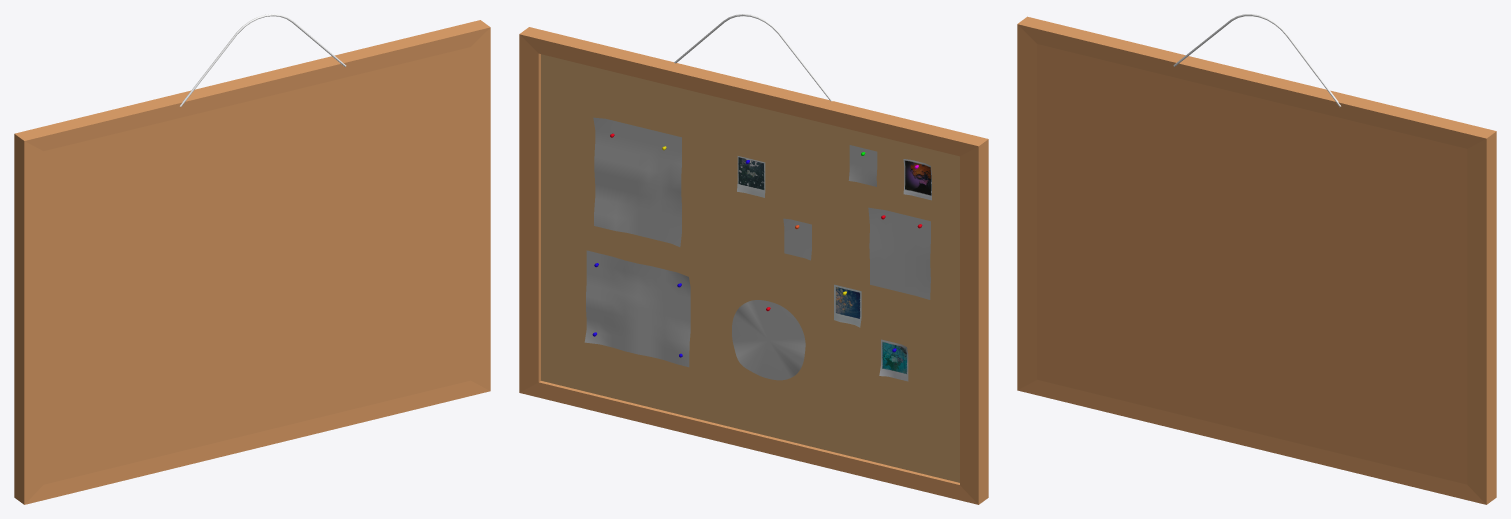
File: Mading.fbx
The picture shows the model from 3 angles, left to right: view 1: azimuth 30°, elevation 25°; view 2: azimuth 150°, elevation 25°; view 3: azimuth 330°, elevation 25°; orthographic projection. The views are drawn at different scales.
Parts seen in each view (by area): view 1: Cube, Plane; view 2: Cube.001, Cube, Plane.001, Plane.010, Plane.009, Plane.002, Plane.003, Plane.008, Plane.006, Plane.004, Plane.005, Plane.007 (+1 smaller); view 3: Cube, Plane.
Part boxes in pixels (box(x1,y1,x2,y2)): Cube: box(14, 20, 490, 504); Plane: box(180, 14, 346, 106); Cube.001: box(541, 54, 959, 482); Cube: box(519, 27, 988, 504); Plane.001: box(593, 117, 681, 246); Plane.010: box(584, 250, 690, 367); Plane.009: box(868, 207, 930, 299); Plane.002: box(732, 300, 805, 380); Plane.003: box(737, 156, 765, 197); Plane.008: box(848, 145, 877, 186); Plane.006: box(879, 339, 908, 381); Plane.004: box(783, 218, 811, 260); Plane.005: box(834, 284, 861, 327); Plane.007: box(903, 159, 931, 200); Cube: box(1017, 16, 1496, 504); Plane: box(1173, 14, 1340, 106).
Size of the model in its own units: 37.32 by 32.98 by 1.78.
